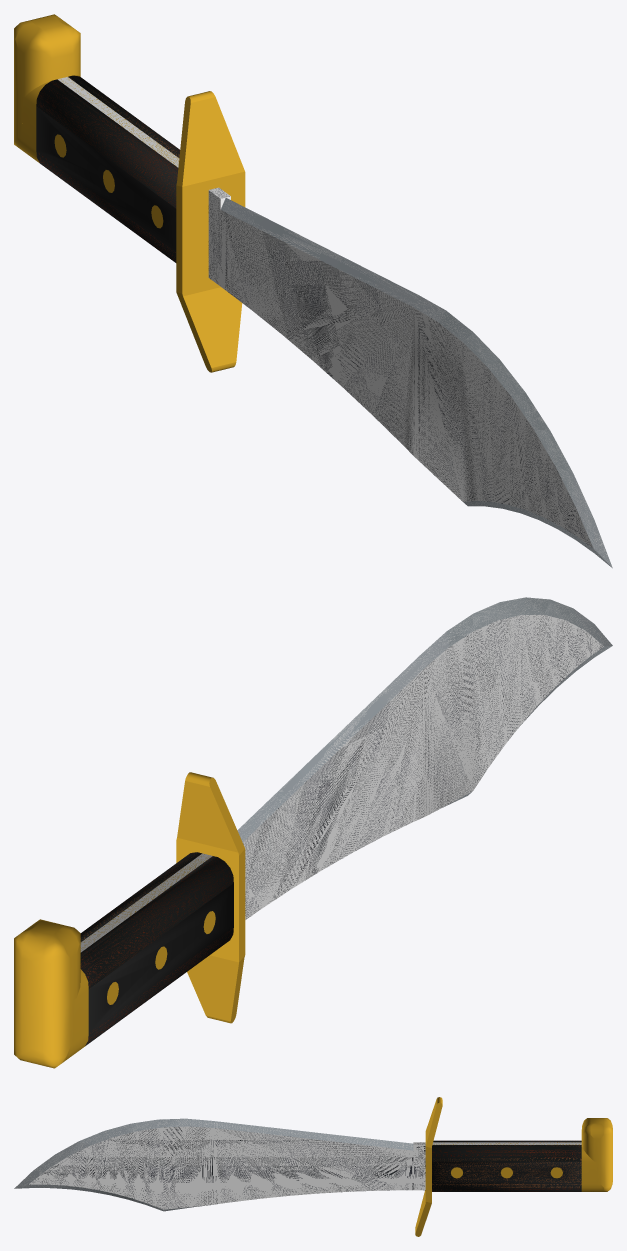
The model's file is model_align.obj.
3 renders of one model, top to bottom at view 1: azimuth 30°, elevation 25°; view 2: azimuth 150°, elevation 25°; view 3: azimuth 270°, elevation 25°, orthographic. The views are drawn at different scales.
Parts seen in each view (by area): view 1: mesh1_mesh1-geometry, mesh26_mesh26-geometry, mesh4_mesh4-geometry, mesh15_mesh15-geometry, mesh8_mesh8-geometry, mesh12_mesh12-geometry, mesh7_mesh7-geometry, mesh21_mesh21-geometry, mesh14_mesh14-geometry; view 2: mesh1_mesh1-geometry, mesh26_mesh26-geometry, mesh4_mesh4-geometry, mesh14_mesh14-geometry, mesh13_mesh13-geometry, mesh8_mesh8-geometry, mesh7_mesh7-geometry, mesh21_mesh21-geometry, mesh15_mesh15-geometry; view 3: mesh1_mesh1-geometry, mesh7_mesh7-geometry, mesh4_mesh4-geometry, mesh13_mesh13-geometry, mesh12_mesh12-geometry, mesh16_mesh16-geometry, mesh14_mesh14-geometry, mesh8_mesh8-geometry, mesh26_mesh26-geometry, mesh10_mesh10-geometry.
Part boxes in pixels (box(x1,y1,x2,y2)): mesh1_mesh1-geometry: box(208, 187, 612, 568); mesh26_mesh26-geometry: box(36, 79, 178, 262); mesh4_mesh4-geometry: box(176, 91, 245, 372); mesh15_mesh15-geometry: box(21, 23, 62, 97); mesh8_mesh8-geometry: box(58, 77, 179, 167); mesh12_mesh12-geometry: box(47, 20, 80, 77); mesh7_mesh7-geometry: box(68, 75, 180, 157); mesh21_mesh21-geometry: box(21, 81, 50, 162); mesh14_mesh14-geometry: box(14, 18, 46, 94); mesh1_mesh1-geometry: box(237, 597, 612, 919); mesh26_mesh26-geometry: box(80, 856, 233, 1045); mesh4_mesh4-geometry: box(176, 772, 245, 1023); mesh14_mesh14-geometry: box(14, 928, 73, 1063); mesh13_mesh13-geometry: box(14, 925, 73, 1068); mesh8_mesh8-geometry: box(80, 853, 212, 952); mesh7_mesh7-geometry: box(80, 852, 201, 941); mesh21_mesh21-geometry: box(70, 969, 88, 1056); mesh15_mesh15-geometry: box(47, 923, 80, 999); mesh1_mesh1-geometry: box(14, 1118, 425, 1211); mesh7_mesh7-geometry: box(432, 1145, 581, 1191); mesh4_mesh4-geometry: box(415, 1097, 442, 1236); mesh13_mesh13-geometry: box(597, 1121, 612, 1161); mesh12_mesh12-geometry: box(581, 1121, 597, 1161); mesh16_mesh16-geometry: box(581, 1146, 597, 1191); mesh14_mesh14-geometry: box(597, 1118, 612, 1191); mesh8_mesh8-geometry: box(432, 1142, 581, 1144); mesh26_mesh26-geometry: box(433, 1140, 581, 1142); mesh10_mesh10-geometry: box(500, 1167, 562, 1178).
Bounding box in the file's own units: 0.0147 × 0.0581 × 0.235.
